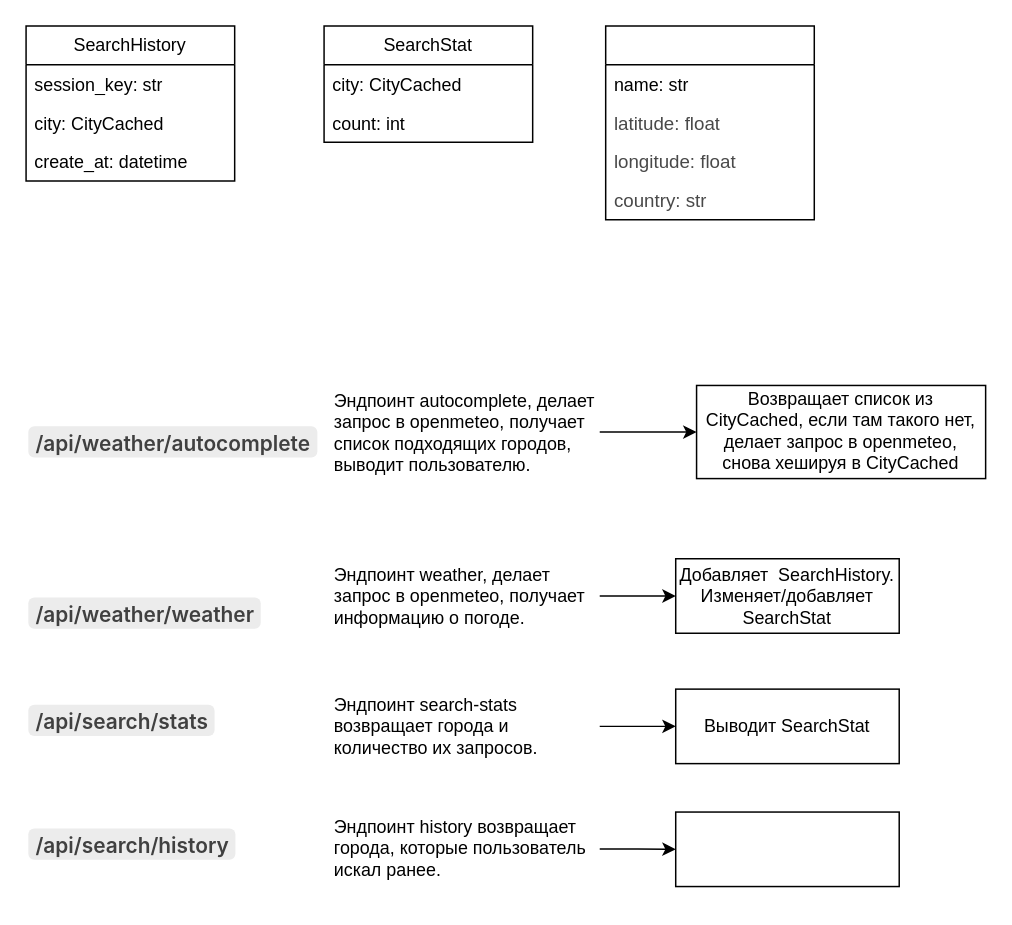
This 1012x925 diagram has some shape labels left out. Each missing label, with the box of its shape:
CityCached: (604, 25, 814, 220)
Выводит SearchHistory: (674, 811, 899, 887)
